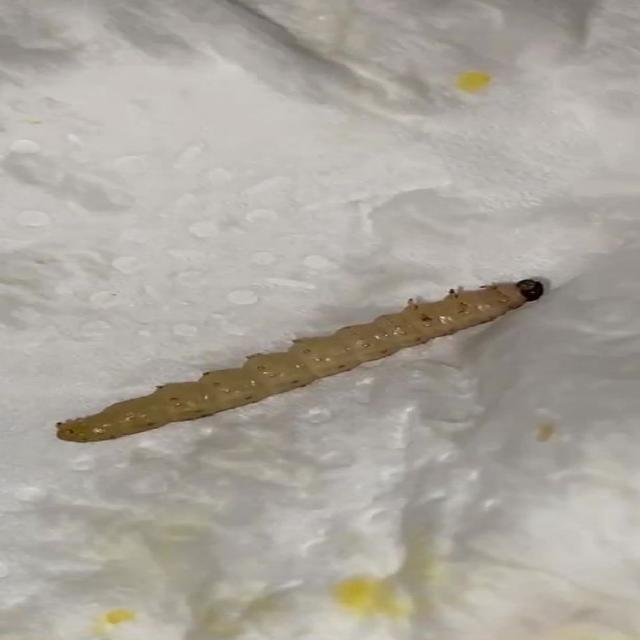cornborer-Larva-: (33, 274, 558, 450)
